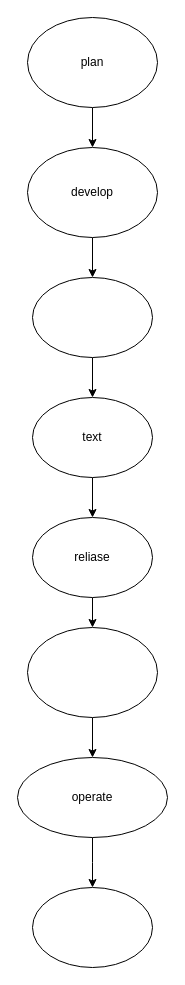
The diagram is 185 pixels wide and 985 high, and some of its shapes have lost their labels. Each missing label, with the box of its shape:
build: (32, 276, 152, 358)
deploy: (26, 626, 158, 718)
monitor: (32, 886, 152, 968)
